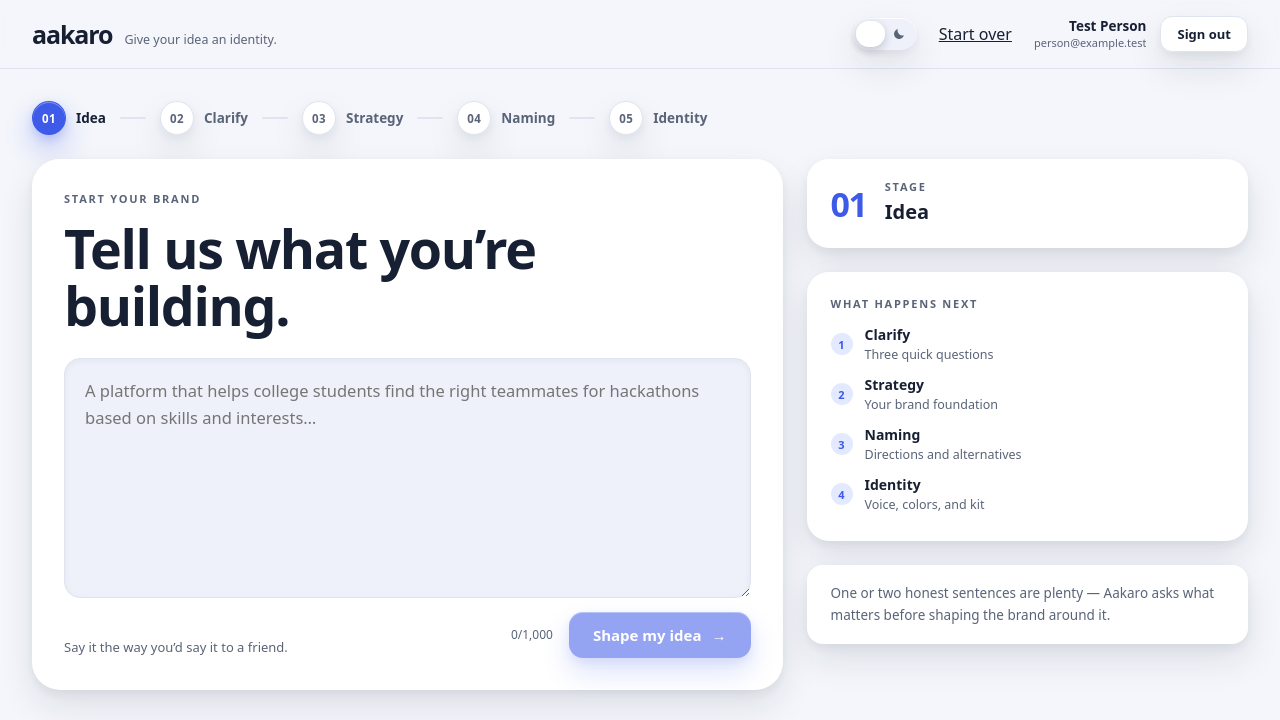
clarify failure preserves the idea and supports retry
Type "Campus teammates" into the text box named "Your idea" at {"x": 407, "y": 478}, box x1=64 y1=358 x2=750 y2=598
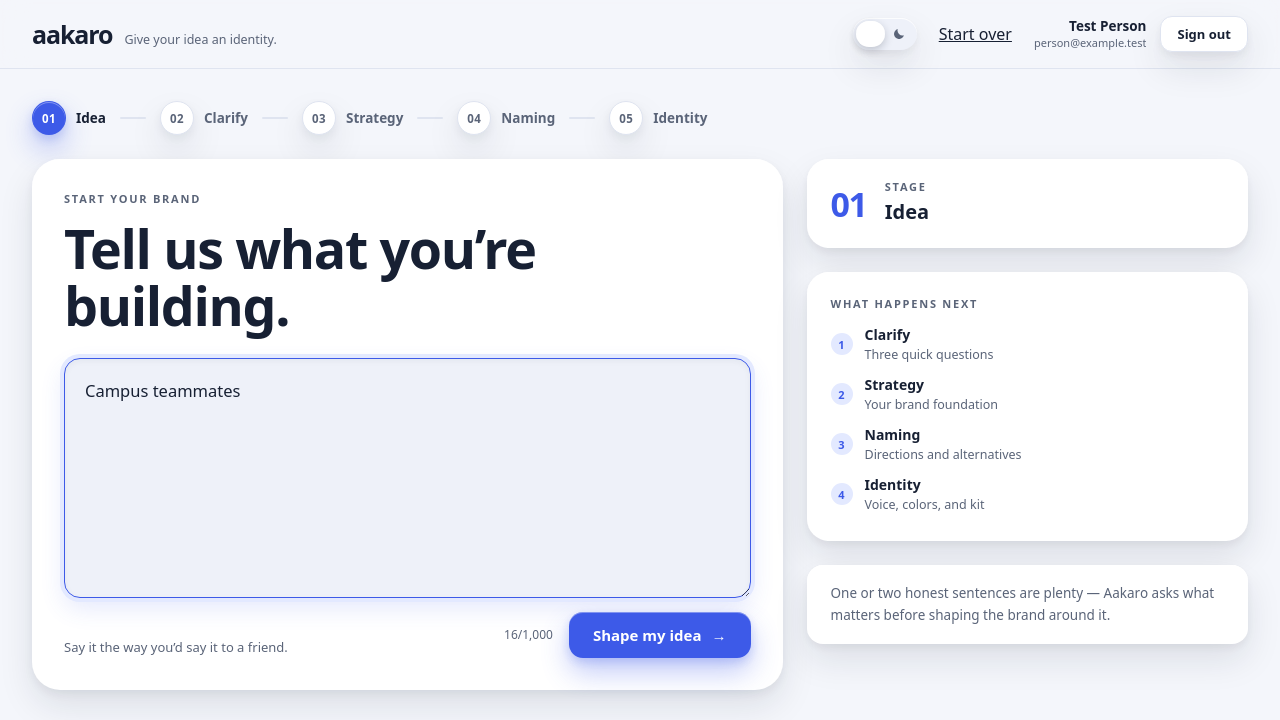
Click the button "Shape my idea →" at {"x": 660, "y": 635}, box x1=569 y1=612 x2=750 y2=658
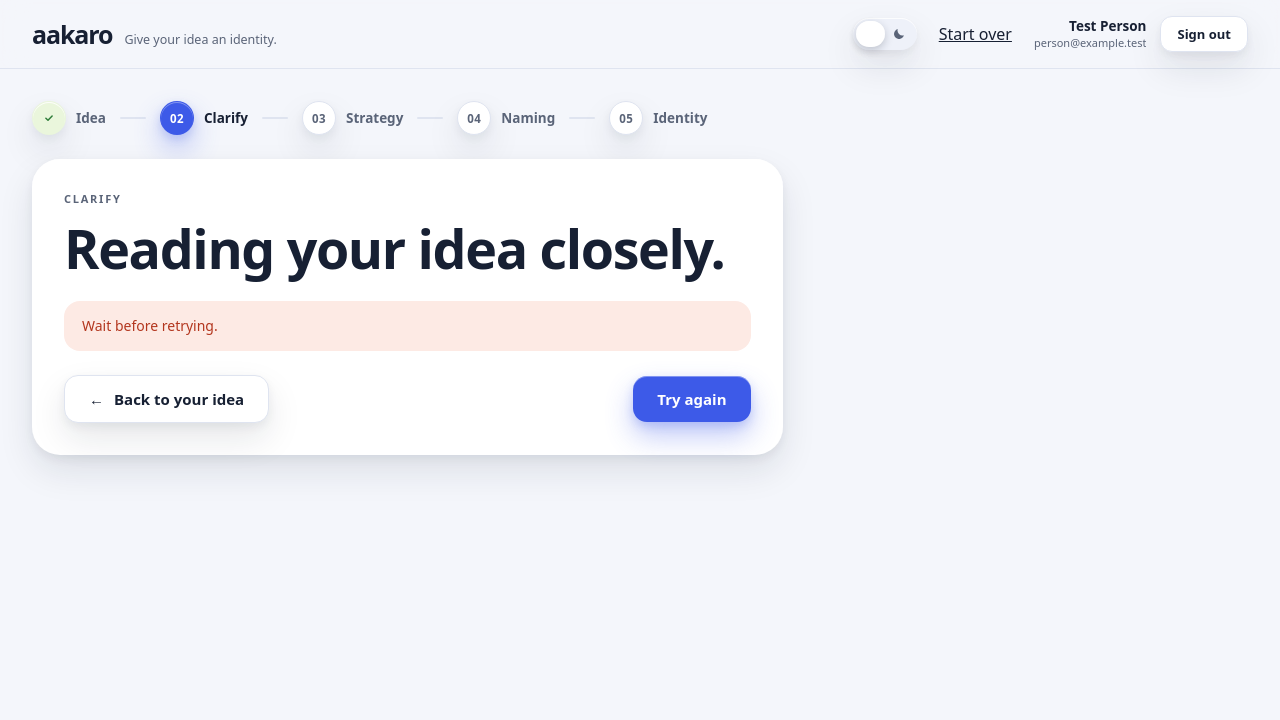
Now the message "Wait before retrying." is shown, box x1=64 y1=301 x2=750 y2=351
Click the button "← Back to your idea" at {"x": 167, "y": 399}, box x1=64 y1=375 x2=269 y2=423
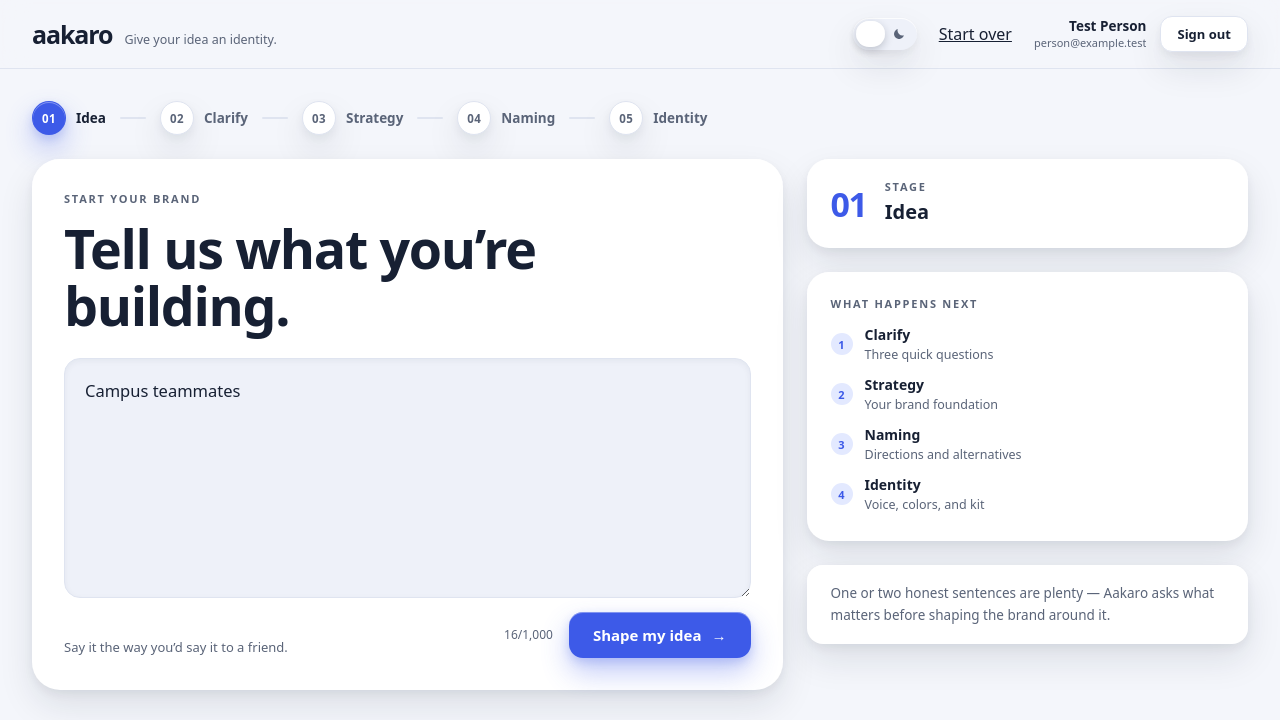
Now the text box named "Your idea" holds "Campus teammates", box x1=64 y1=358 x2=750 y2=598
Click the button "Shape my idea →" at {"x": 660, "y": 635}, box x1=569 y1=612 x2=750 y2=658
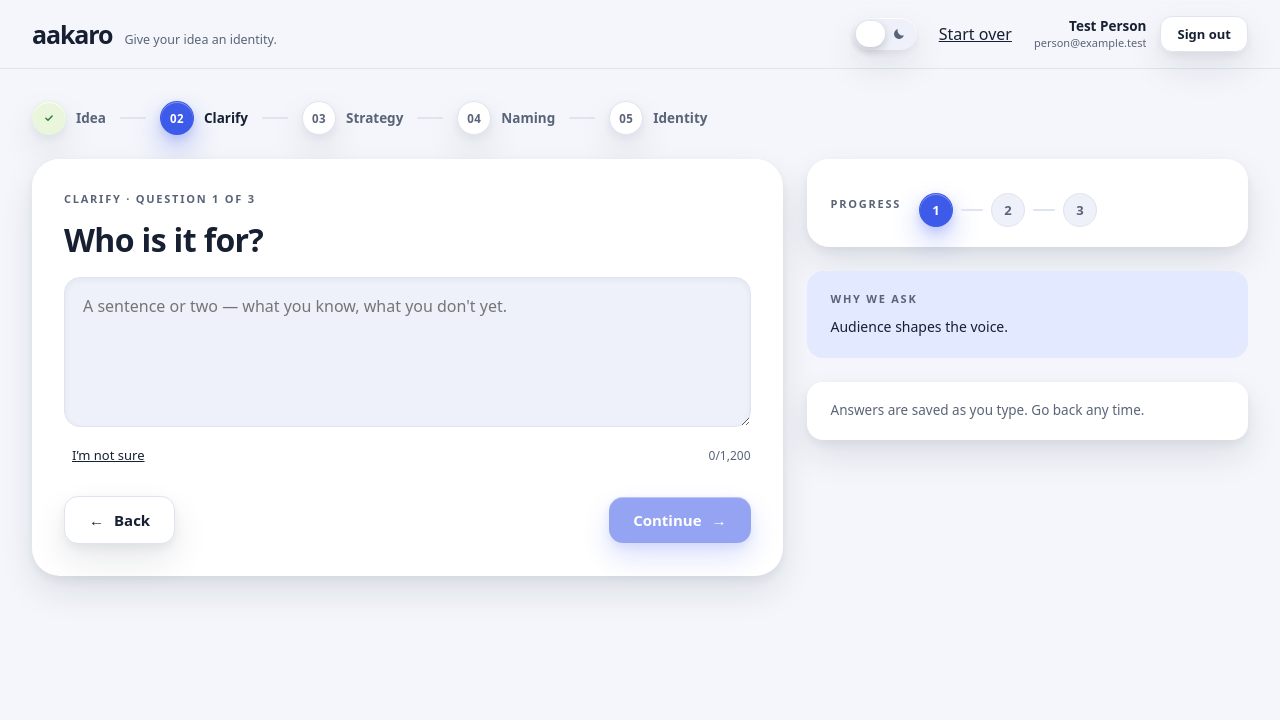
Now the heading "Who is it for?" is shown, box x1=64 y1=218 x2=263 y2=261
